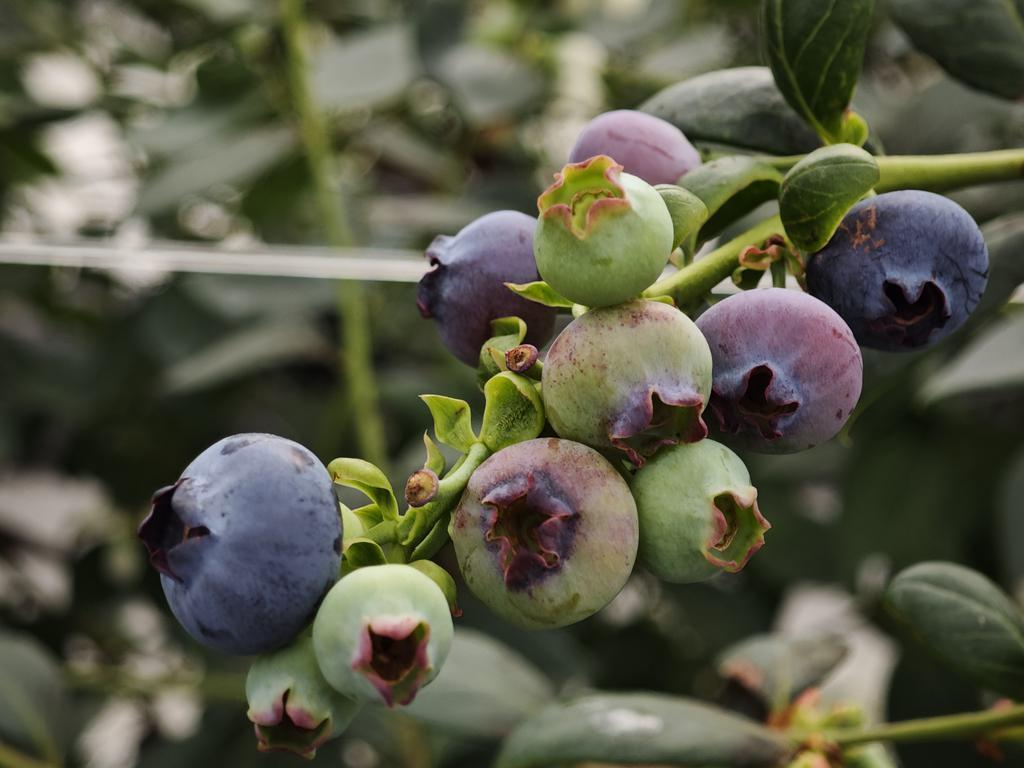RipeBlueBerry: (142, 429, 345, 660), (807, 187, 992, 356)
Semi-RipeBlueBerry: (696, 285, 866, 455), (421, 206, 557, 370)
UnripeBlueBerry: (451, 435, 641, 631), (540, 301, 714, 453), (535, 157, 676, 308)
